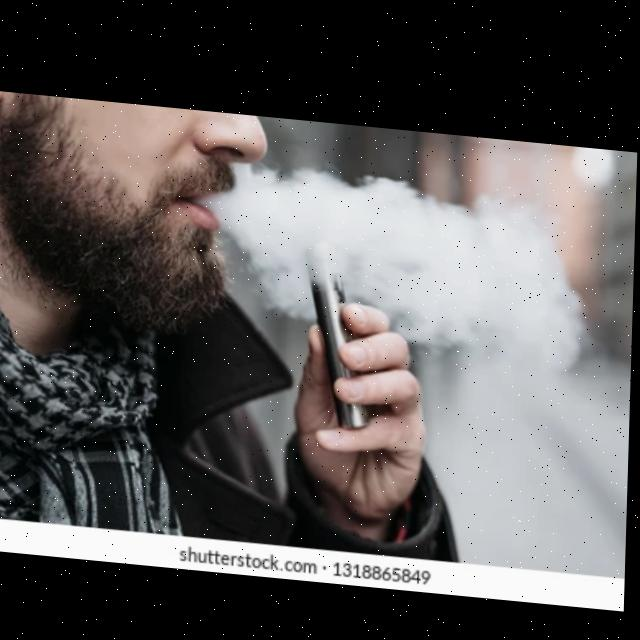vape: (303, 234, 379, 425)
